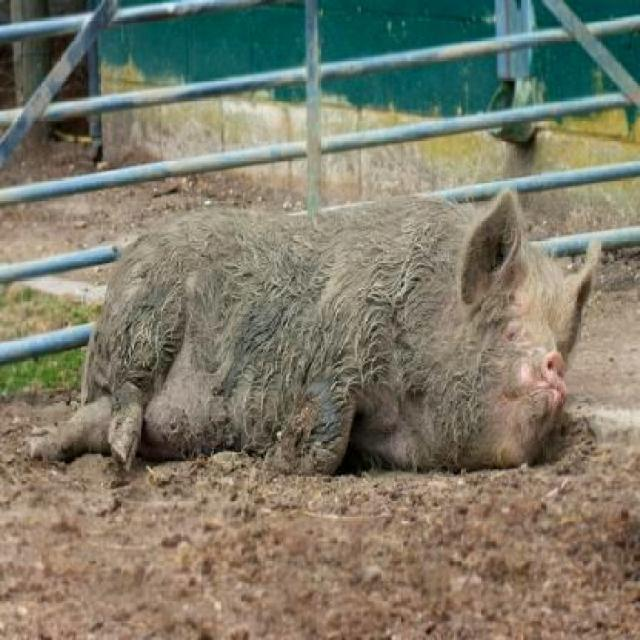Boar: (31, 183, 598, 469)
